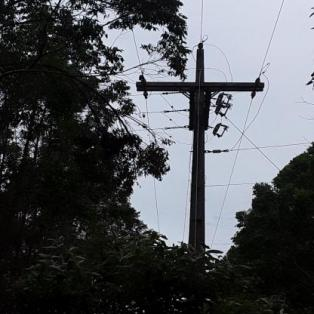Poste: (186, 40, 212, 244)
